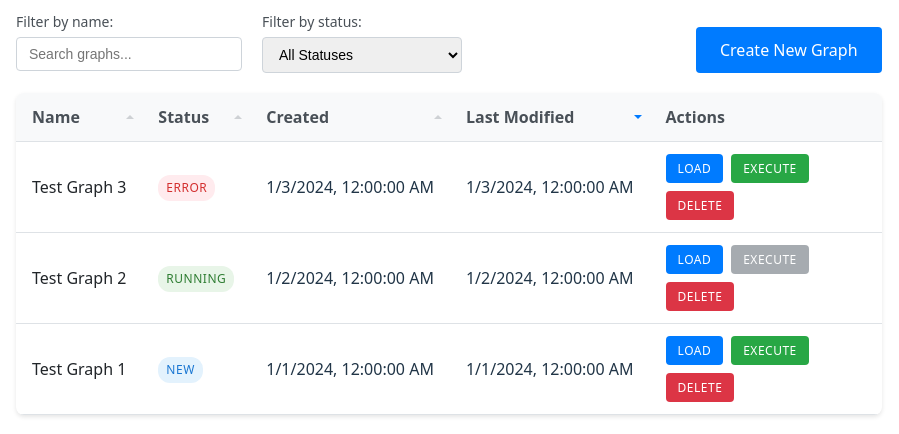
it: GraphList › should search graphs by name
Type "Graph 2" into the field with placeholder "Search graphs..." at [129, 54], box [16,37,242,71]
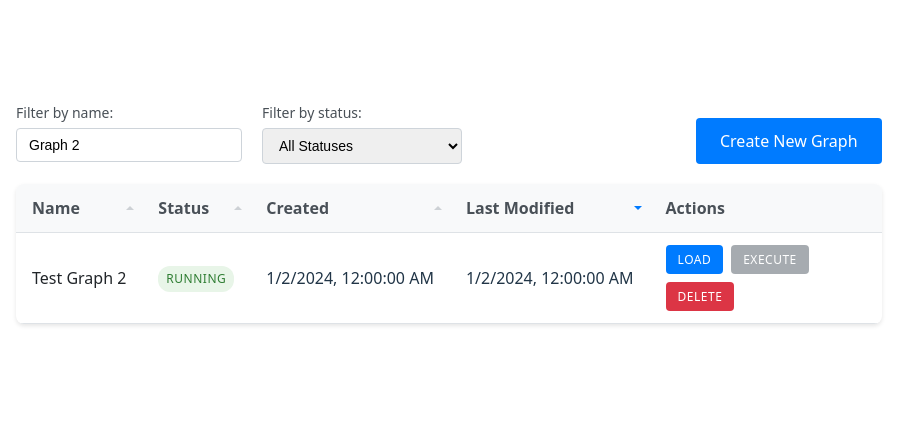
Expected: the text "Test Graph 2" is shown, [16,232,142,324]
Expected: the text "Test Graph 1" is gone
Expected: the text "Test Graph 3" is gone
